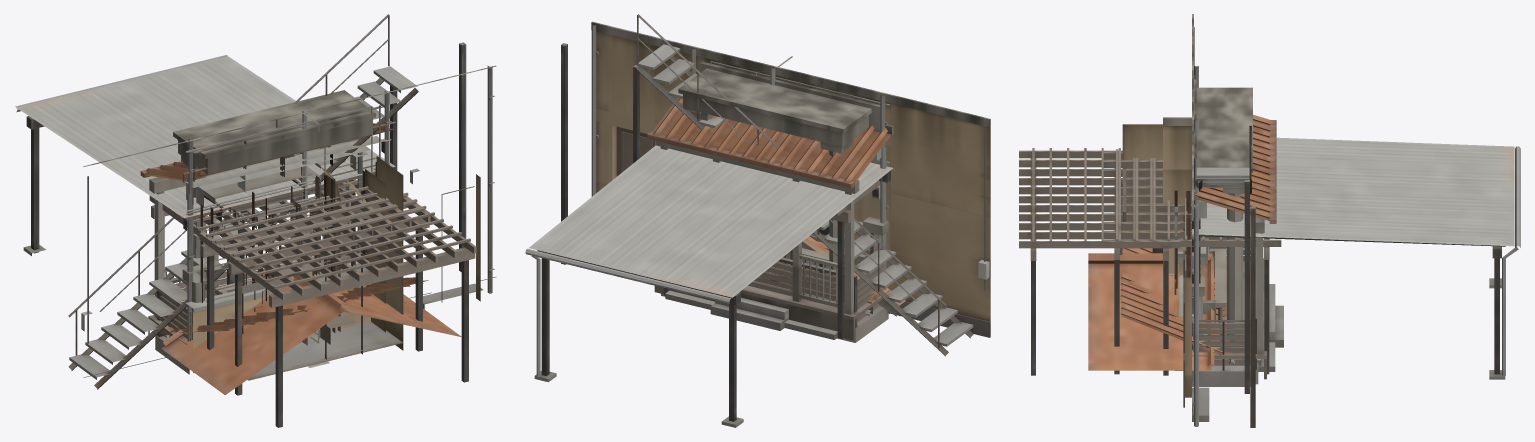
The model's file is kit_residential.glb.
The picture shows the model from 3 angles, left to right: view 1: azimuth 30°, elevation 25°; view 2: azimuth 150°, elevation 25°; view 3: azimuth 270°, elevation 25°; orthographic projection. The views are drawn at different scales.
Visible parts, largest first — view 1: carport_4_a_lod0, top_crown_4_a_lod0, ground_stair_8_a_lod0, ground_entrance_4_b_lod0, gable_end_4_a_lod0, roof_prop_4_a_lod0, ground_wall_4_b_lod0, ground_entrance_4_c_lod0, ground_shop_4_a_lod0, ground_entrance_4_a_lod0, ground_garage_4_b_lod0, ground_garage_4_a_lod0 (+8 smaller); view 2: ground_stair_8_a_lod0, carport_4_a_lod0, ground_entrance_4_c_lod0, ground_entrance_4_b_lod0, upper_balcony_4_a_lod0, upper_window_4_d_lod0, roof_prop_4_a_lod0, ground_wall_4_a_lod0, ground_shop_4_a_lod0, ground_wall_4_b_lod0, gable_end_4_a_lod0, ground_garage_4_a_lod0; view 3: carport_4_a_lod0, top_crown_4_a_lod0, gable_end_4_a_lod0, ground_stair_8_a_lod0, ground_entrance_4_b_lod0, ground_entrance_4_c_lod0, roof_prop_4_a_lod0, ground_wall_4_b_lod0, eave_4_a_lod0, upper_balcony_4_a_lod0, corner_ground_a_lod0, upper_stair_4_a_lod0 (+4 smaller).
Boxes of the visible parts, x1=… form: carport_4_a_lod0: x1=15, y1=55, x2=395, y2=255; top_crown_4_a_lod0: x1=186, y1=192, x2=476, y2=427; ground_stair_8_a_lod0: x1=68, y1=14, x2=496, y2=389; ground_entrance_4_b_lod0: x1=173, y1=90, x2=375, y2=331; gable_end_4_a_lod0: x1=161, y1=269, x2=461, y2=394; roof_prop_4_a_lod0: x1=149, y1=179, x2=430, y2=395; ground_wall_4_b_lod0: x1=182, y1=156, x2=403, y2=380; ground_entrance_4_c_lod0: x1=140, y1=121, x2=395, y2=344; ground_shop_4_a_lod0: x1=186, y1=106, x2=391, y2=312; ground_entrance_4_a_lod0: x1=187, y1=91, x2=389, y2=342; ground_garage_4_b_lod0: x1=214, y1=169, x2=385, y2=344; ground_garage_4_a_lod0: x1=188, y1=139, x2=375, y2=281; ground_stair_8_a_lod0: x1=561, y1=14, x2=990, y2=356; carport_4_a_lod0: x1=525, y1=145, x2=892, y2=427; ground_entrance_4_c_lod0: x1=647, y1=77, x2=893, y2=340; ground_entrance_4_b_lod0: x1=665, y1=68, x2=880, y2=339; upper_balcony_4_a_lod0: x1=661, y1=257, x2=888, y2=342; upper_window_4_d_lod0: x1=765, y1=145, x2=890, y2=289; roof_prop_4_a_lod0: x1=663, y1=180, x2=880, y2=338; ground_wall_4_a_lod0: x1=691, y1=49, x2=890, y2=313; ground_shop_4_a_lod0: x1=699, y1=61, x2=881, y2=160; ground_wall_4_b_lod0: x1=825, y1=217, x2=888, y2=262; gable_end_4_a_lod0: x1=802, y1=236, x2=905, y2=316; ground_garage_4_a_lod0: x1=880, y1=95, x2=887, y2=306; carport_4_a_lod0: x1=1192, y1=137, x2=1520, y2=379; top_crown_4_a_lod0: x1=1019, y1=148, x2=1193, y2=375; gable_end_4_a_lod0: x1=1088, y1=253, x2=1214, y2=372; ground_stair_8_a_lod0: x1=1183, y1=14, x2=1255, y2=427; ground_entrance_4_b_lod0: x1=1174, y1=87, x2=1275, y2=371; ground_entrance_4_c_lod0: x1=1185, y1=114, x2=1283, y2=379; roof_prop_4_a_lod0: x1=1103, y1=149, x2=1281, y2=374; ground_wall_4_b_lod0: x1=1120, y1=124, x2=1204, y2=349; eave_4_a_lod0: x1=1120, y1=230, x2=1234, y2=364; upper_balcony_4_a_lod0: x1=1193, y1=238, x2=1258, y2=384; corner_ground_a_lod0: x1=1163, y1=117, x2=1198, y2=169; upper_stair_4_a_lod0: x1=1183, y1=215, x2=1250, y2=386.
Size of what is drawn, in the model's own units: 8 by 5.56 by 8.71.
8 materials, 8 textured.
